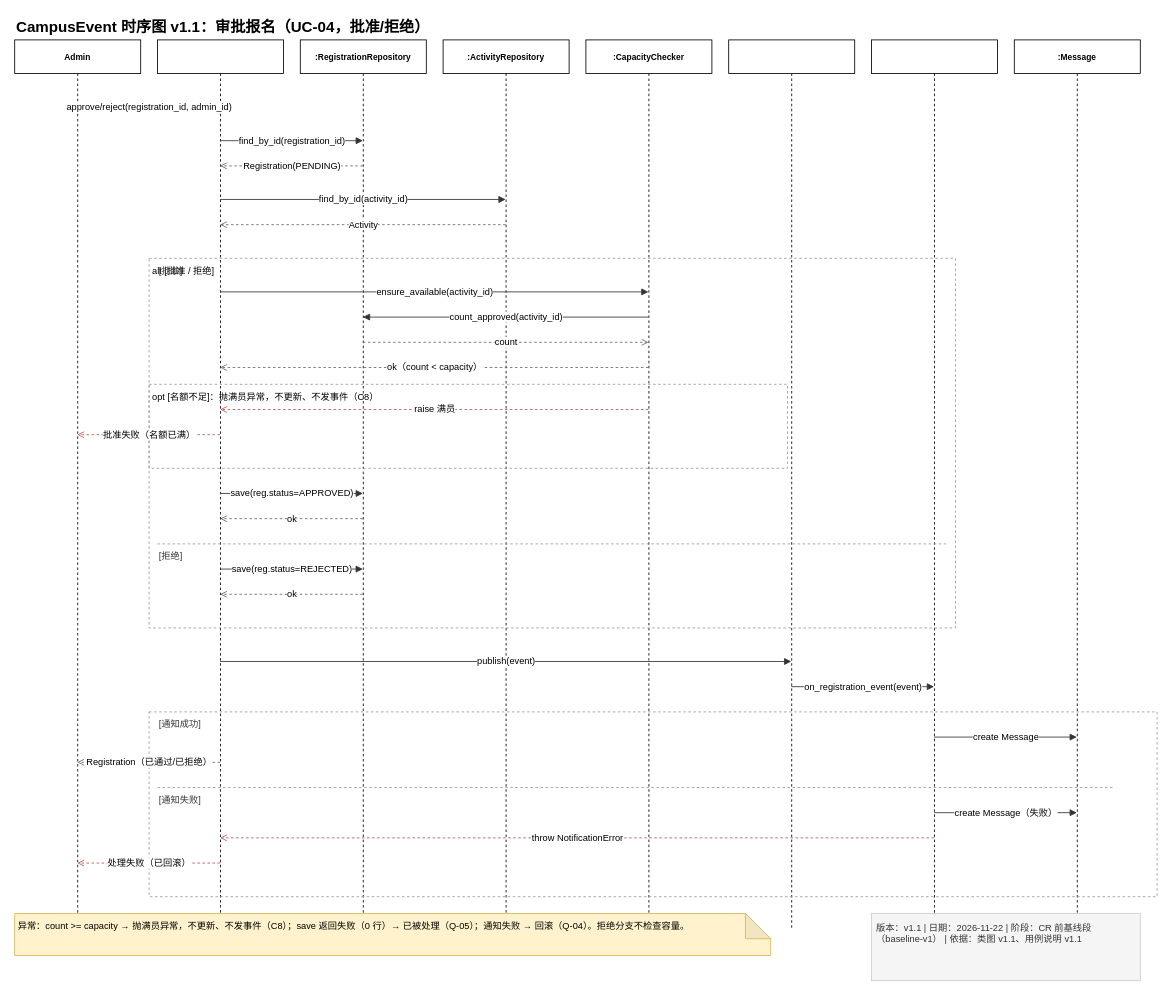
This 1172x995 diagram has some shape labels left out. The shapes that lost their labels are listed below. From the top down, each one's box as (x1, y1, x2, y2) in pixels, then its label:
(157, 39, 284, 930): :RegistrationService
(728, 39, 855, 930): :EventPublisher
(871, 39, 998, 930): :MessageObserver
(148, 711, 1157, 897): alt [通知成功 / 通知失败]
